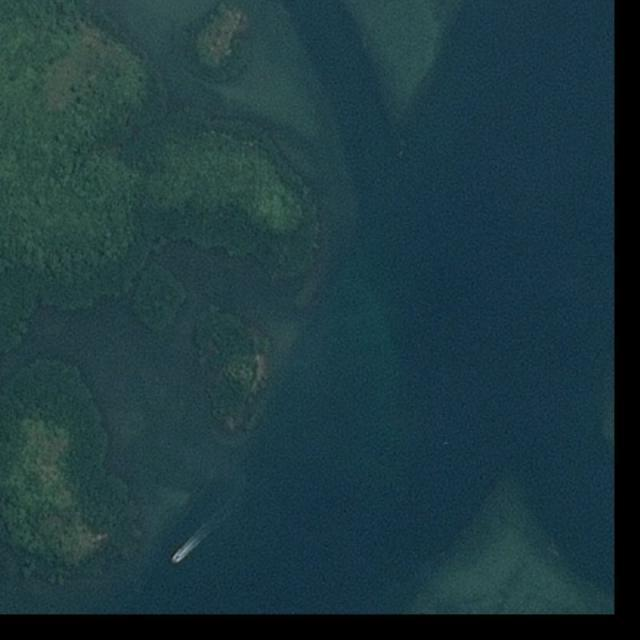ship: (170, 553, 182, 564)
